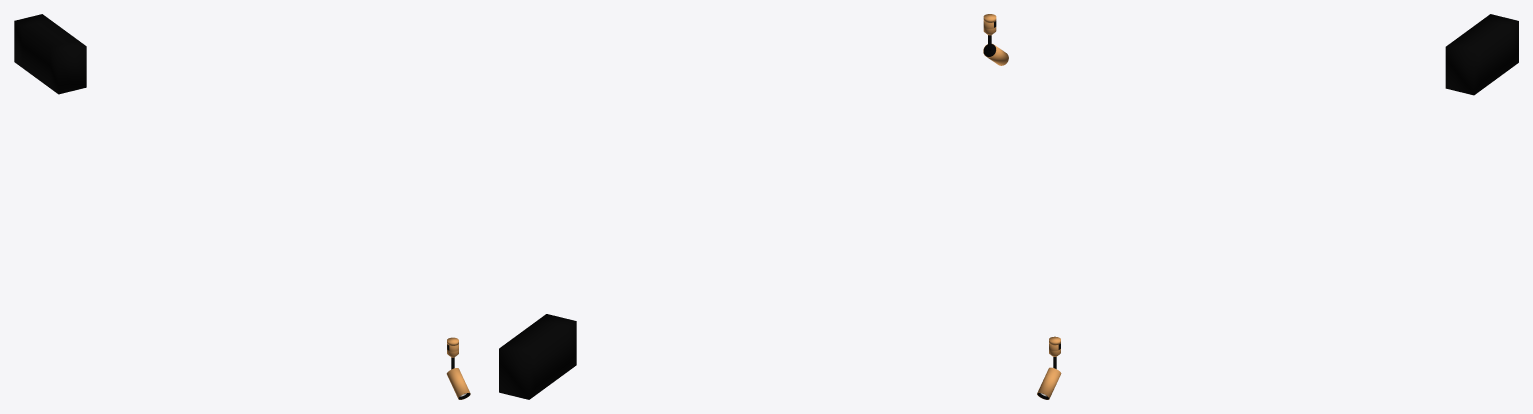
Rendered from Track_Spot.glb.
The picture shows the model from 3 angles, left to right: view 1: azimuth 30°, elevation 25°; view 2: azimuth 150°, elevation 25°; view 3: azimuth 330°, elevation 25°; orthographic projection. The views are drawn at different scales.
Visible parts, largest first — view 1: Cube.007, Cylinder.336; view 2: Cube.007; view 3: Cube.007.
Boxes of the visible parts, x1,y1,x2,y2 form: Cube.007: [14, 14, 86, 94]; Cylinder.336: [446, 368, 470, 399]; Cube.007: [499, 314, 576, 399]; Cube.007: [1445, 14, 1518, 95].
Size of the model in its own units: 1.67 by 2.95 by 43.65.
